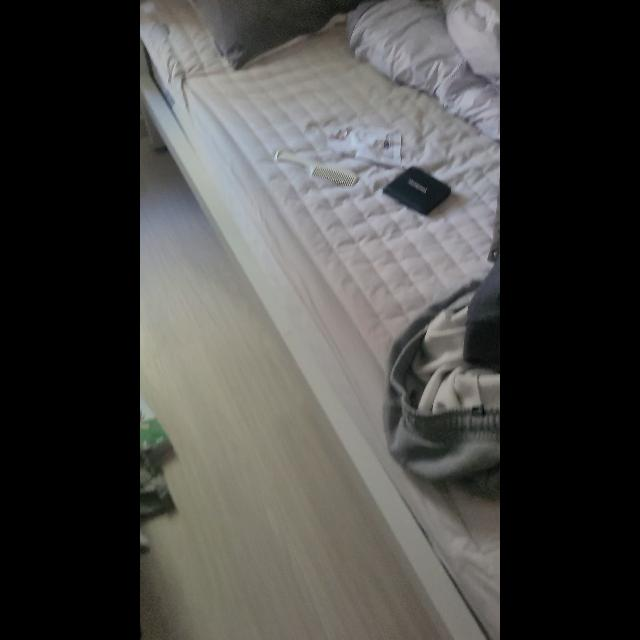COMB: (275, 148, 359, 186)
Glasses cleaning cloth: (325, 124, 401, 166)
WALLET: (383, 165, 452, 215)
